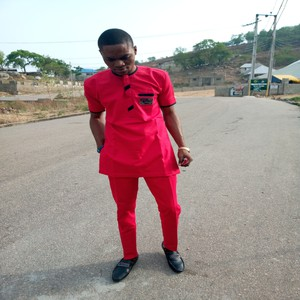Fulokoja_male_student: (86, 26, 186, 274)
